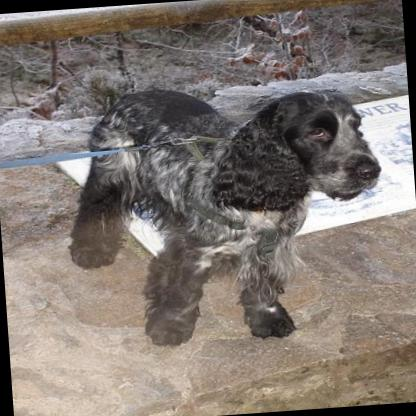cocker_spaniel: (55, 72, 392, 354)
